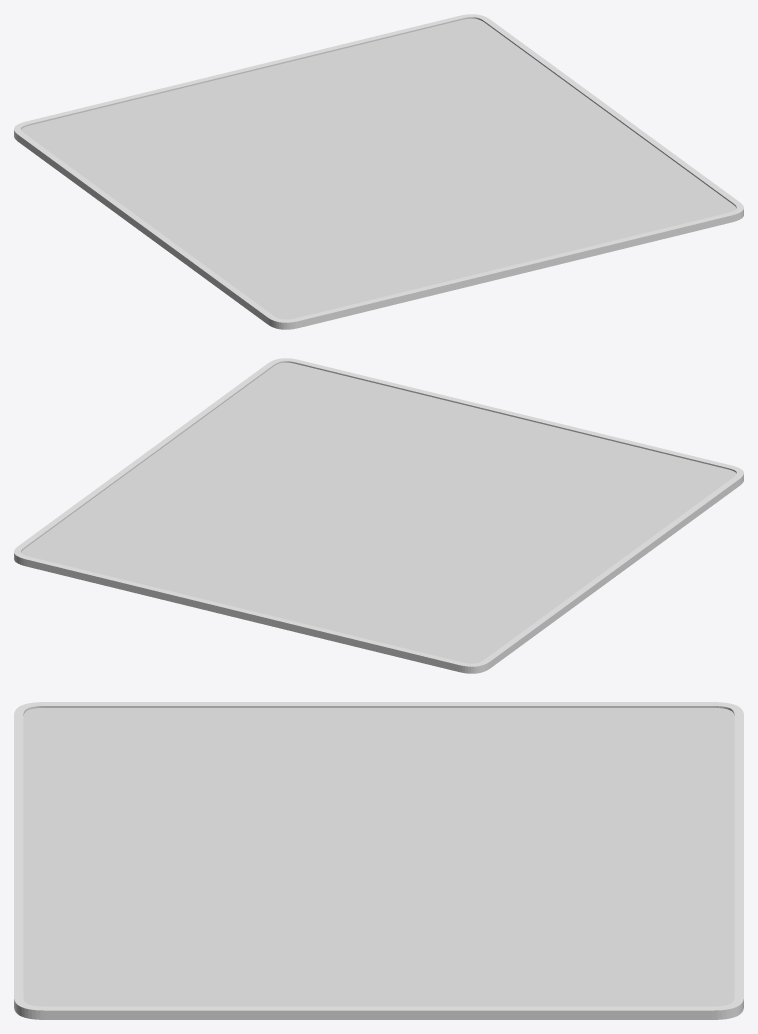
Rendered from ground_block.fbx.
The picture shows the model from 3 angles, top to bottom: view 1: azimuth 30°, elevation 25°; view 2: azimuth 150°, elevation 25°; view 3: azimuth 270°, elevation 25°; orthographic projection. The views are drawn at different scales.
Parts seen in each view (by area): view 1: ground_block; view 2: ground_block; view 3: ground_block.
Boxes of the visible parts, bbox=[...] form: ground_block: bbox=[14, 14, 743, 329]; ground_block: bbox=[14, 358, 743, 673]; ground_block: bbox=[14, 702, 743, 1019].
Size of the model in its own units: 1400 by 20 by 1400.
Materials: 1 (1 with a texture image).
